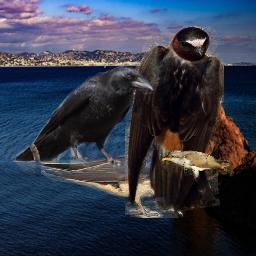Crow: (8, 65, 154, 175)
Cuckoo: (160, 150, 232, 184)
Swallow: (125, 26, 224, 215), (41, 125, 205, 218)
